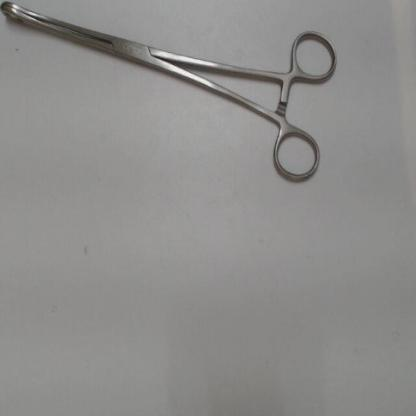Sponge Forceps: (2, 0, 344, 195)
